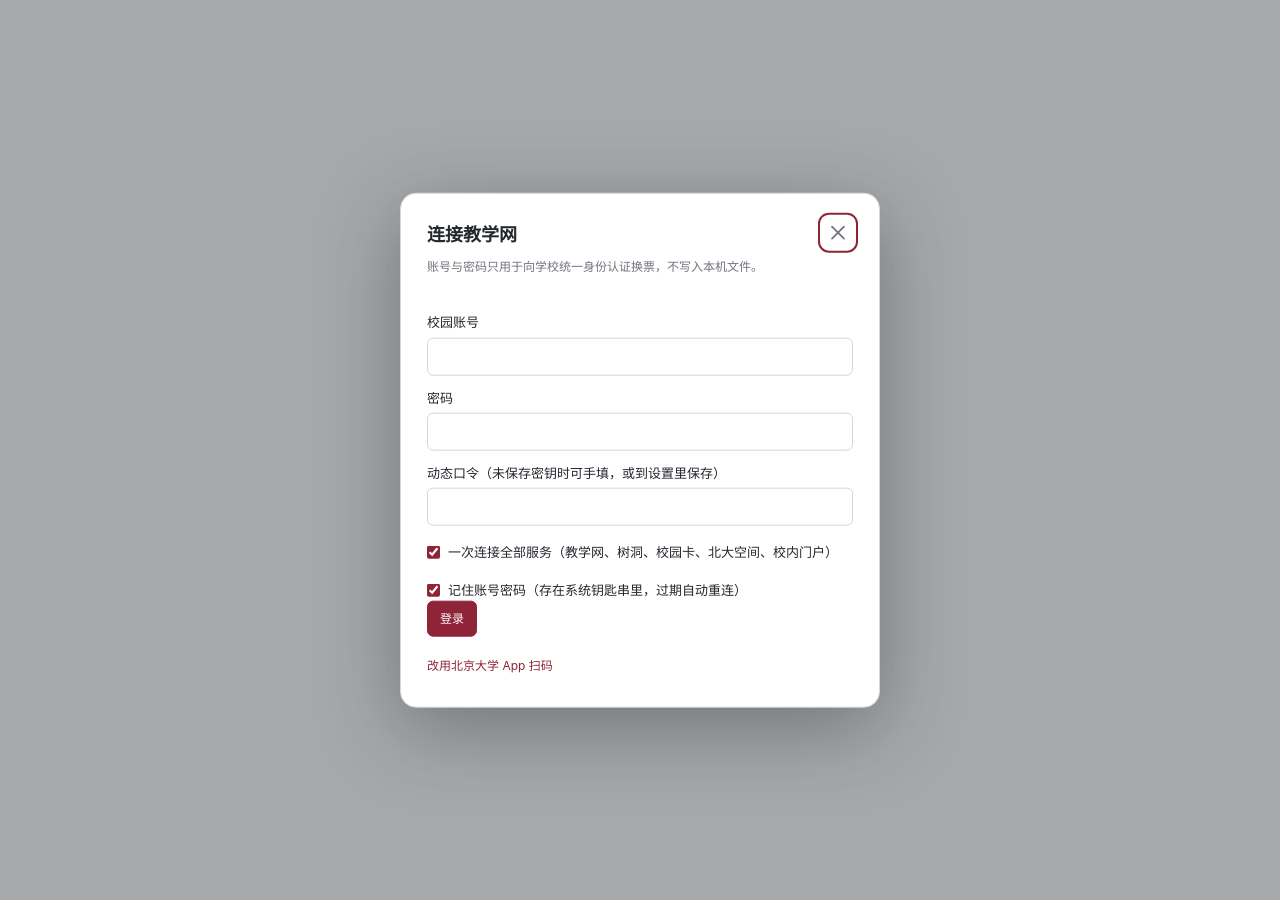
Test: shows partial login and keychain failures on the success screen
The image size is (1280, 900).
Type "test-user" into the field labelled "校园账号" at (640, 356), box [427, 338, 853, 375]
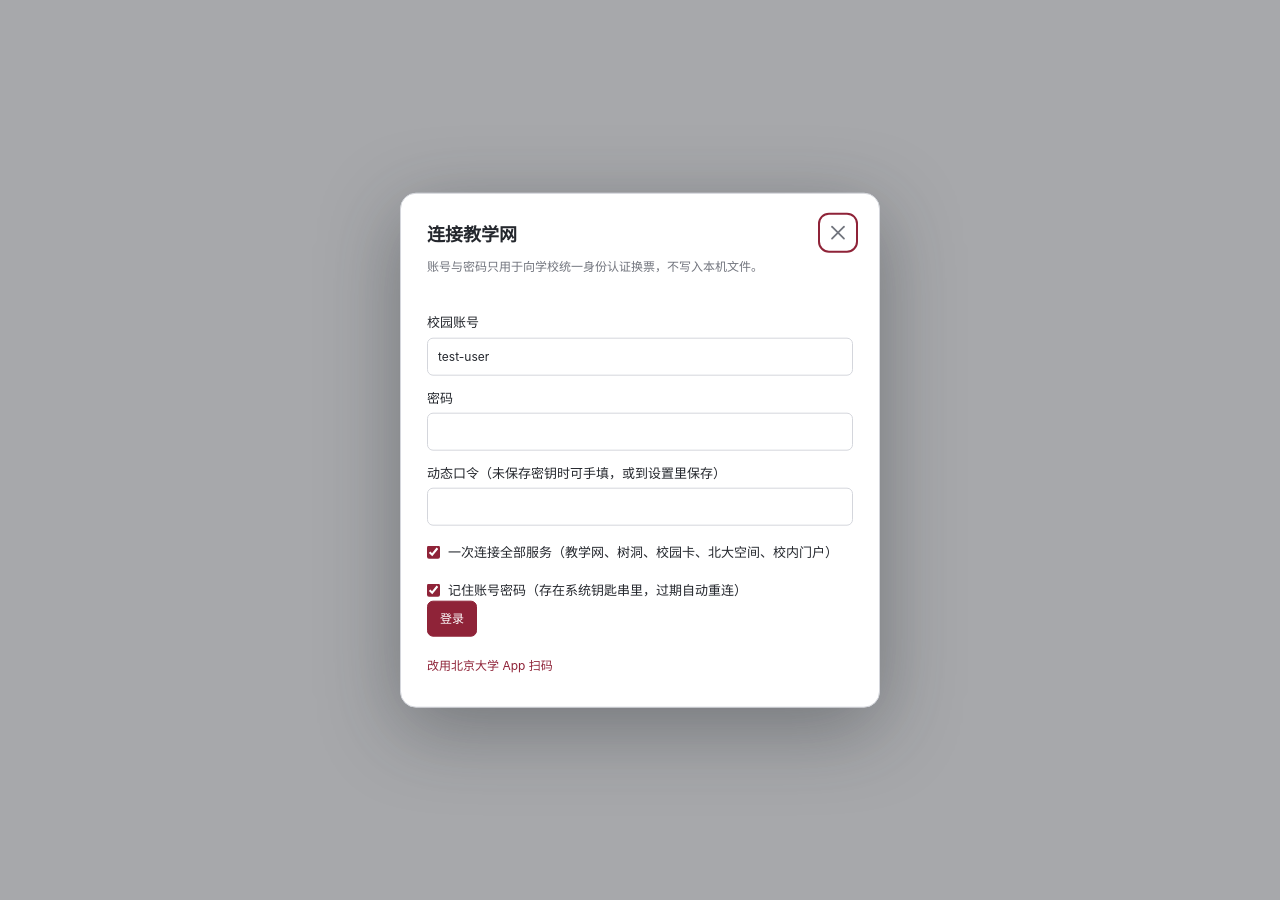
Type "test-password" into the password field labelled "密码" at (640, 432), box [427, 413, 853, 451]
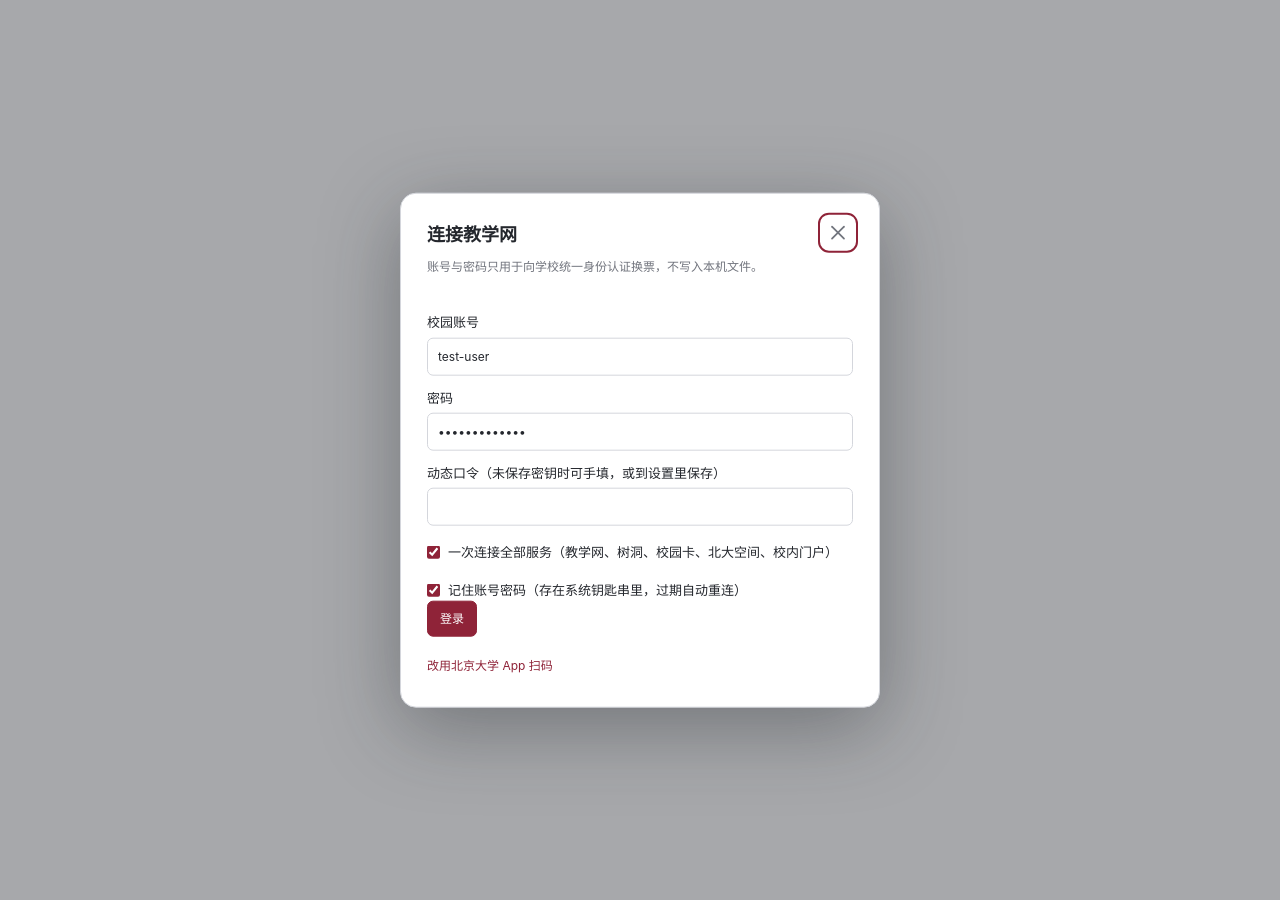
Click the button "登录" at (452, 619), box [427, 601, 477, 636]
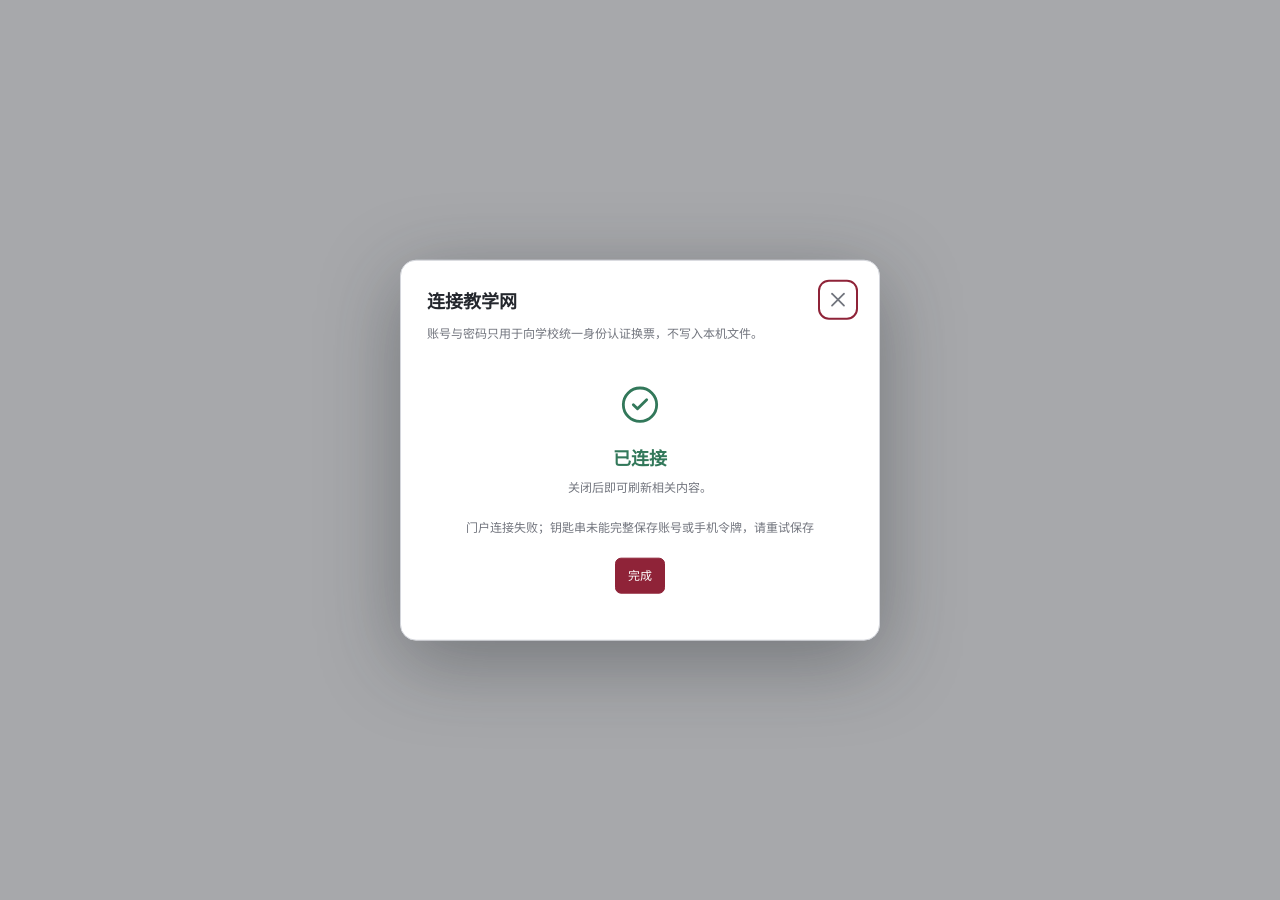
Expected: the heading "已连接" is shown, [613, 447, 667, 468]
Expected: the message shows "门户连接失败", [466, 520, 814, 535]
Expected: the message shows "钥匙串未能完整保存", [466, 520, 814, 535]
